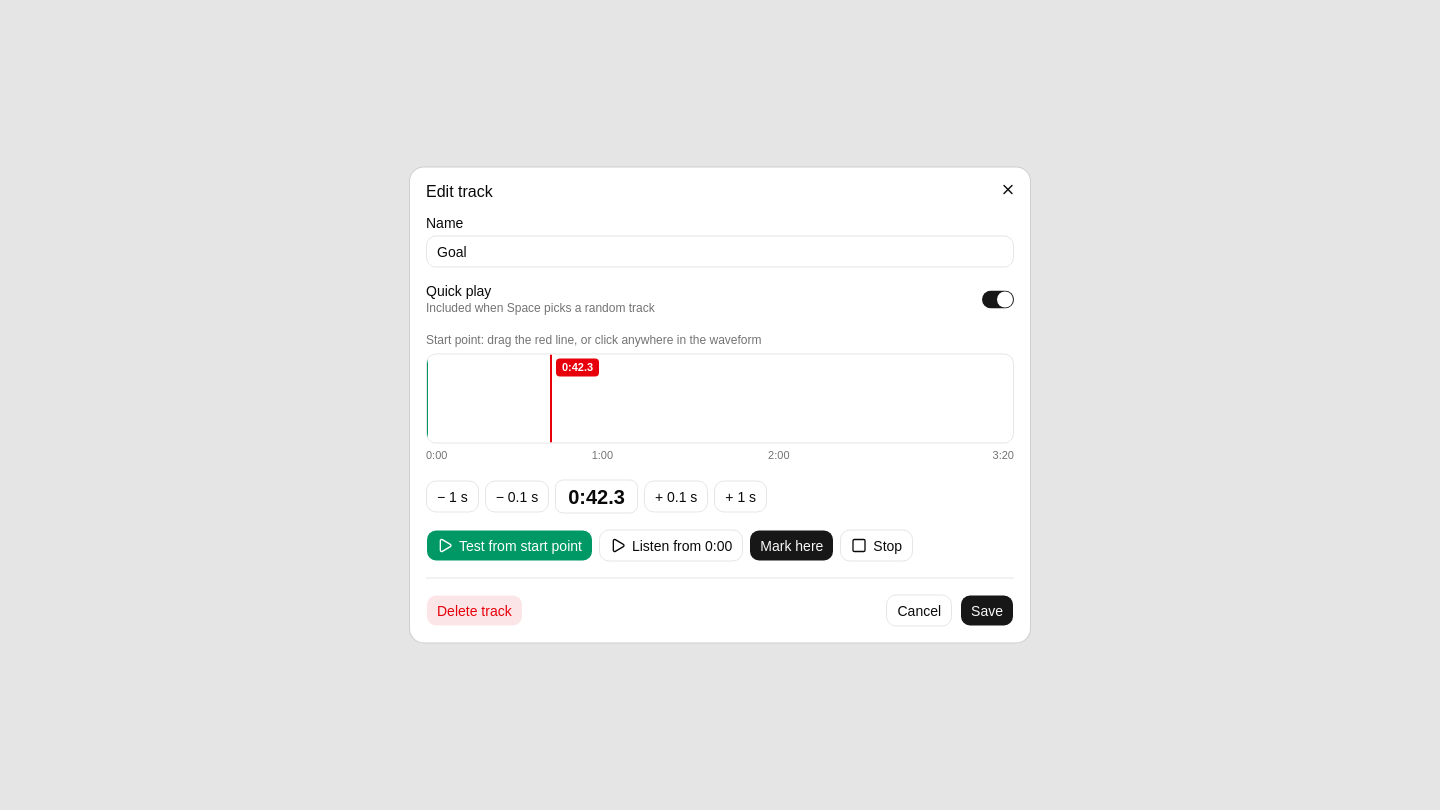
Test: mark here uses the playback position
This screenshot has width=1440, height=810.
What coordinates should you click on to do the following:
click the button "Mark here"
I would click on:
 (792, 546)
Its box is [749,530,834,562].
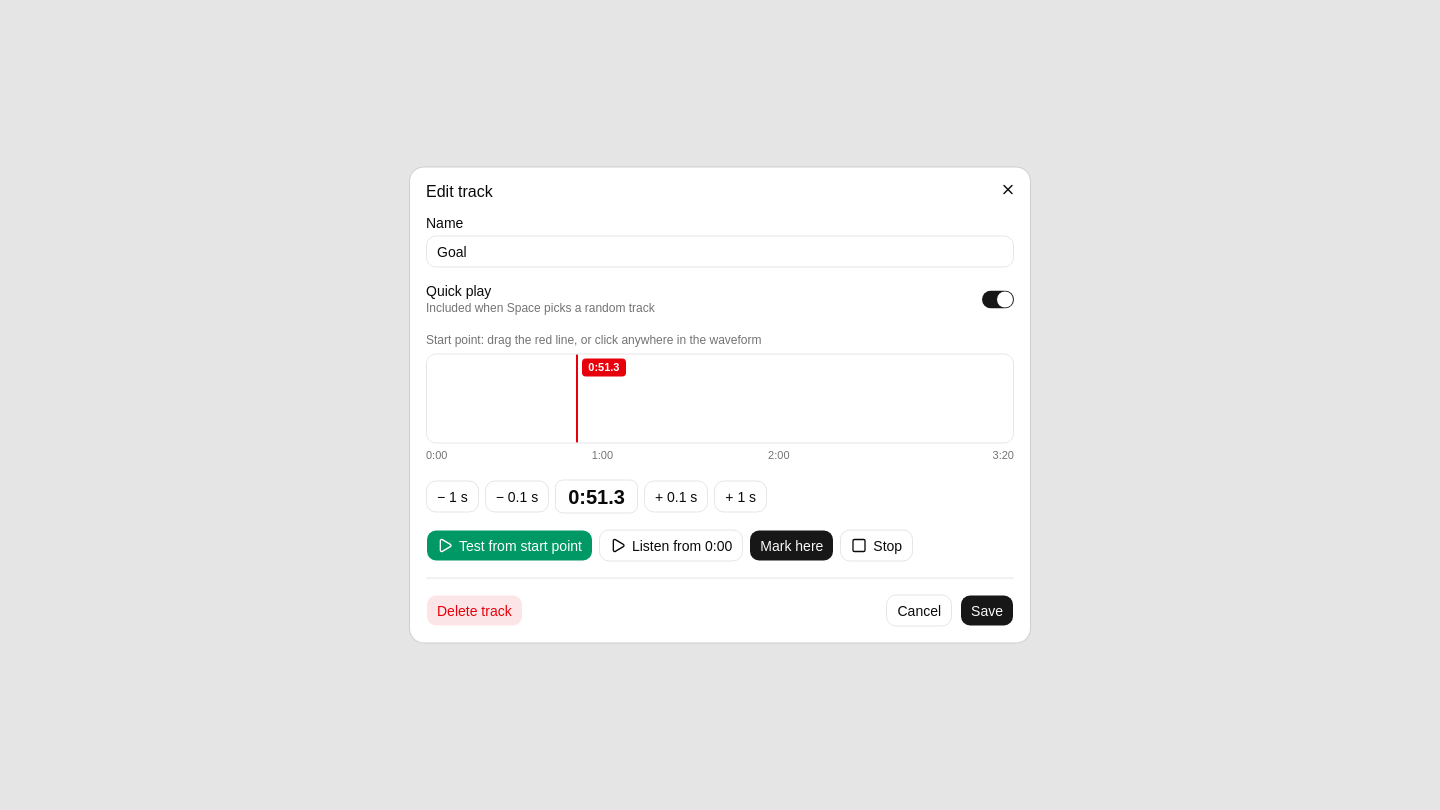
Check: the text named "Start point" reads "0:51.3", box [568,486,625,508]
